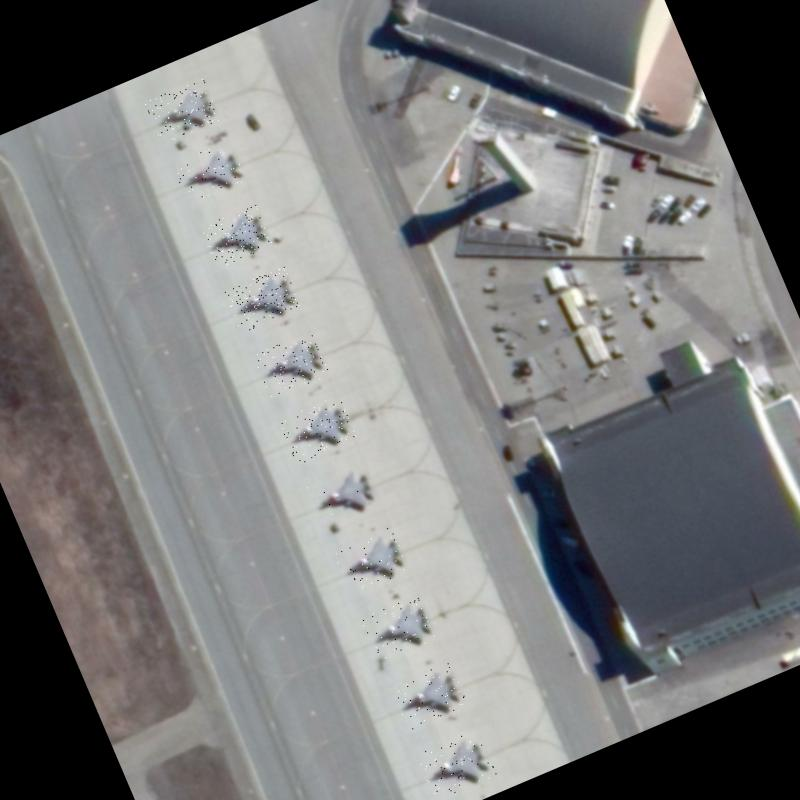A13: (387, 660, 469, 732), (415, 728, 497, 800), (278, 394, 358, 465), (332, 526, 412, 596), (252, 330, 330, 400), (360, 594, 438, 664), (144, 77, 222, 145), (224, 266, 302, 334), (304, 462, 382, 529), (171, 139, 247, 205), (200, 203, 274, 269)
